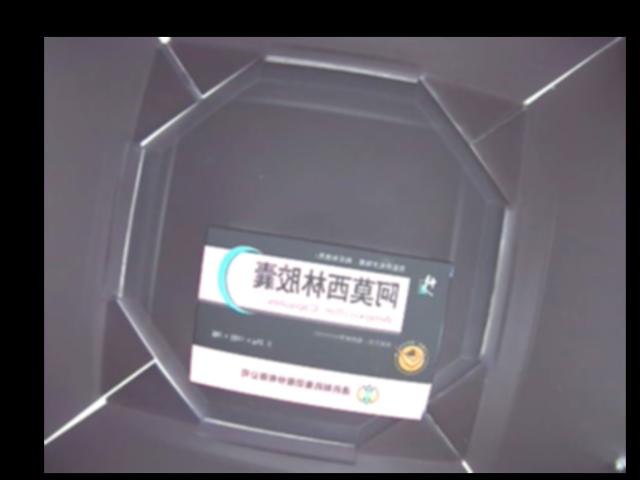Medicine: (188, 224, 454, 419)
